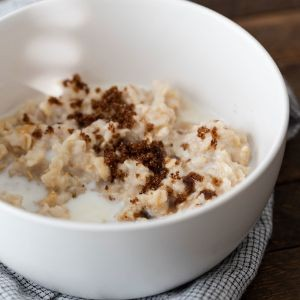oat_brain food: (29, 125, 201, 195)
